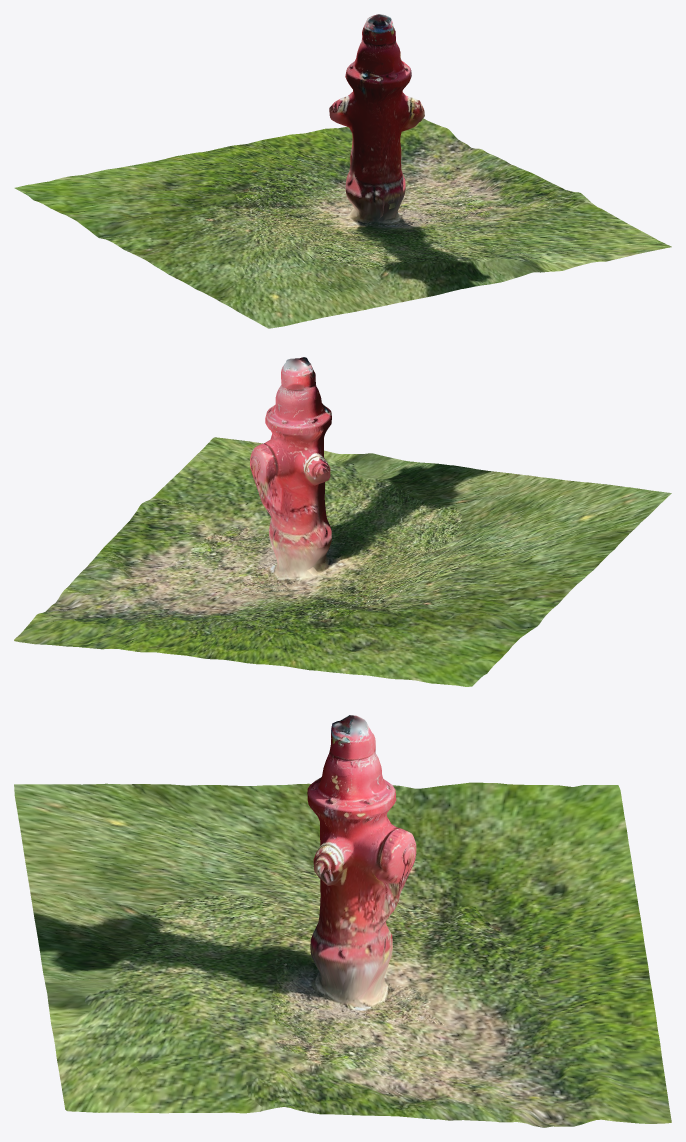
The model's file is hydrant.glb.
3 views of the same model, one above another, from view 1: azimuth 30°, elevation 25°; view 2: azimuth 150°, elevation 25°; view 3: azimuth 270°, elevation 25° (orthographic). The views are drawn at different scales.
Visible parts, largest first — view 1: Object_4; view 2: Object_4; view 3: Object_4.
Part boxes in pixels (x1,y1,x2,y2): Object_4: (14,14,671,328); Object_4: (14,357,671,686); Object_4: (14,715,671,1127).
Size of the model in its own units: 2.36 by 1.12 by 2.19.
1 material, 1 textured.
